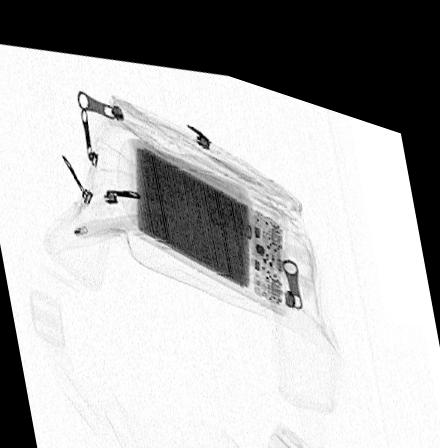Powerbank: (131, 128, 288, 297)
